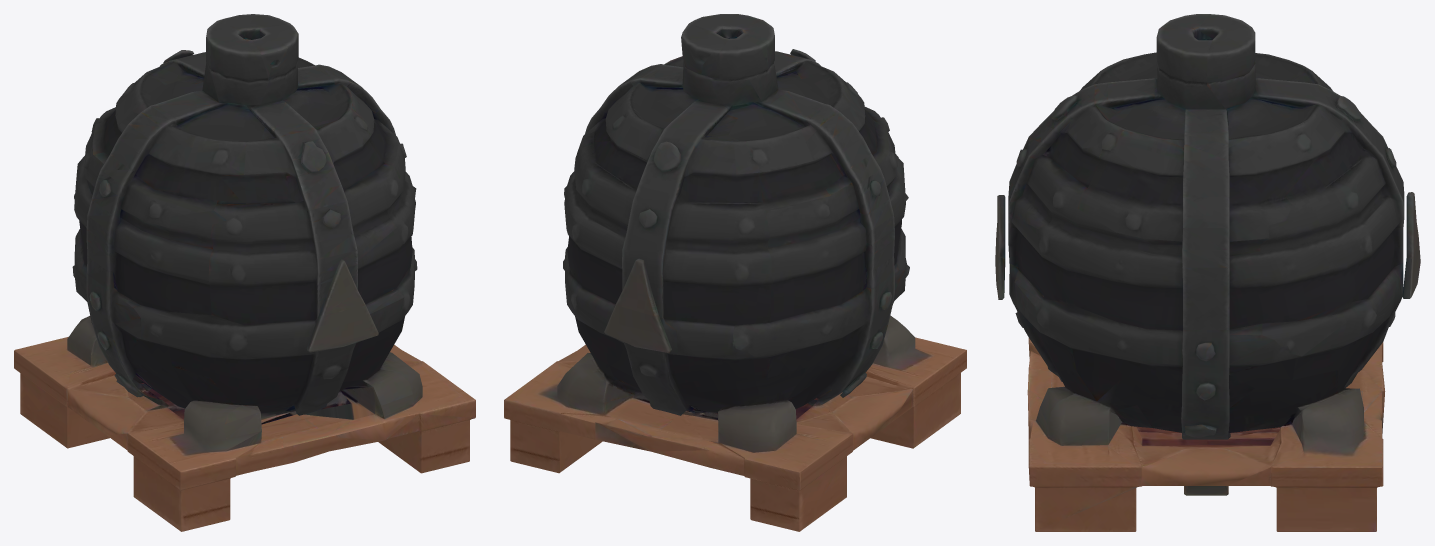
The model's file is powder-keg.opt.glb.
3 renders of one model, left to right at view 1: azimuth 30°, elevation 25°; view 2: azimuth 150°, elevation 25°; view 3: azimuth 270°, elevation 25°, orthographic. The views are drawn at different scales.
Size of the model in its own units: 1.44 by 1.91 by 1.64.
Materials: 1 (1 with a texture image).
